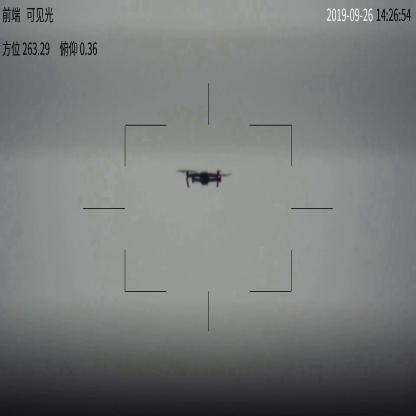uav: (180, 165, 229, 188)
